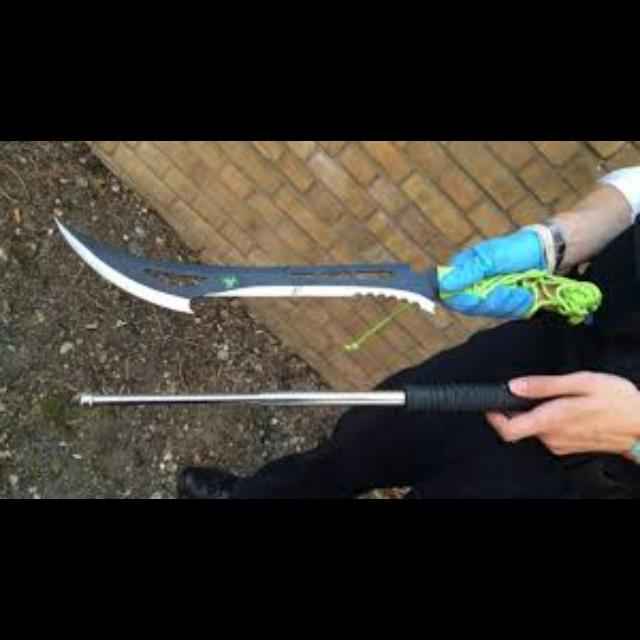knife: (348, 143, 640, 499), (54, 214, 476, 310), (428, 227, 548, 321)
